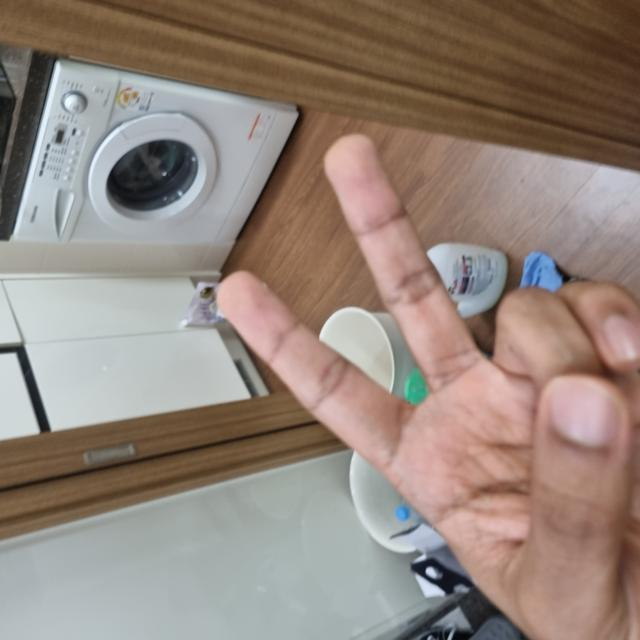Scissors: (2, 223, 504, 639)
